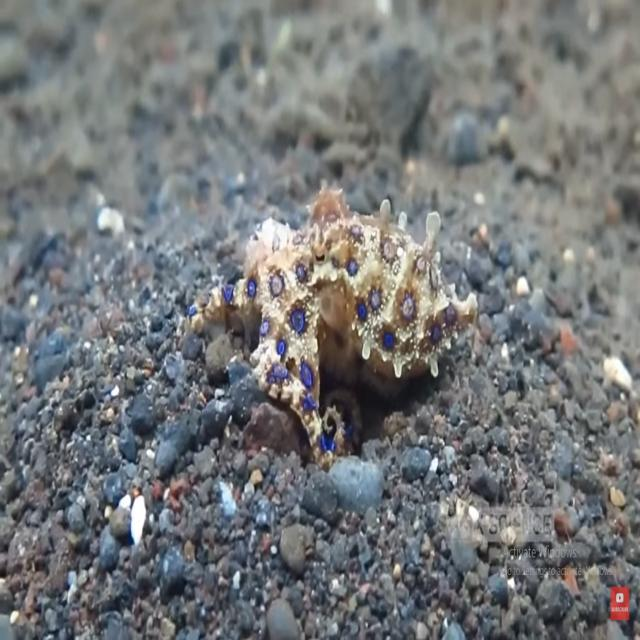blue_ringed_octopus: (184, 181, 478, 468)
